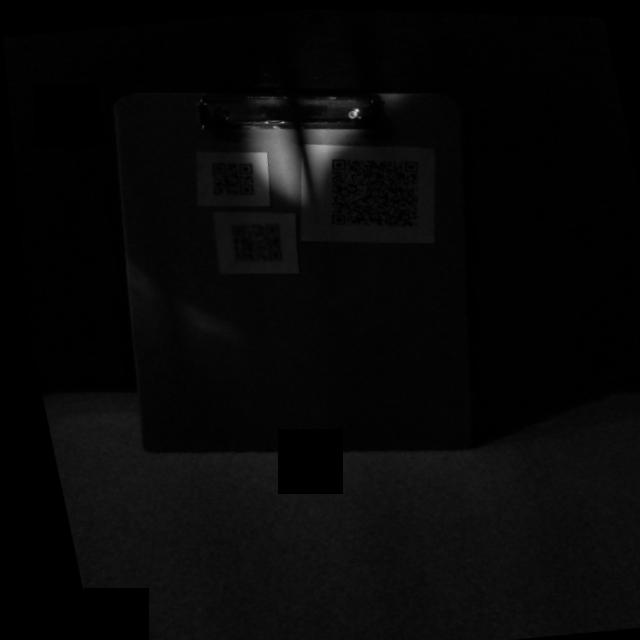QR_CODE: (305, 138, 436, 240), (197, 206, 292, 276), (192, 149, 262, 204)
